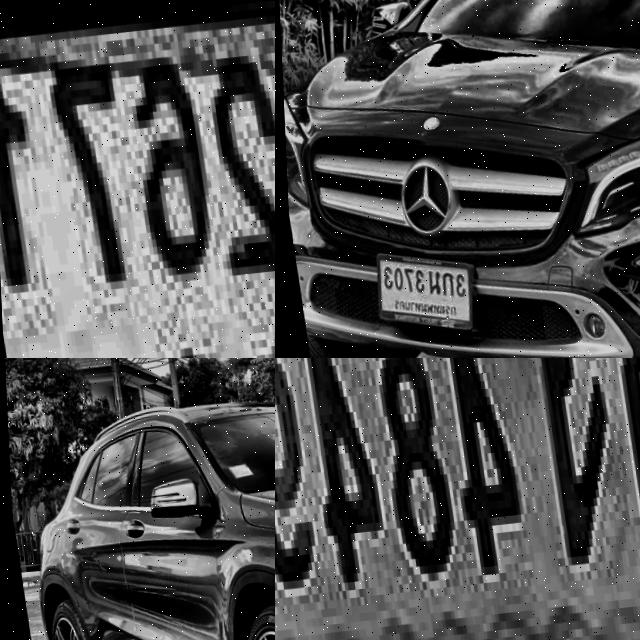license-plate: (275, 358, 640, 640), (0, 0, 275, 358), (362, 239, 481, 346)
